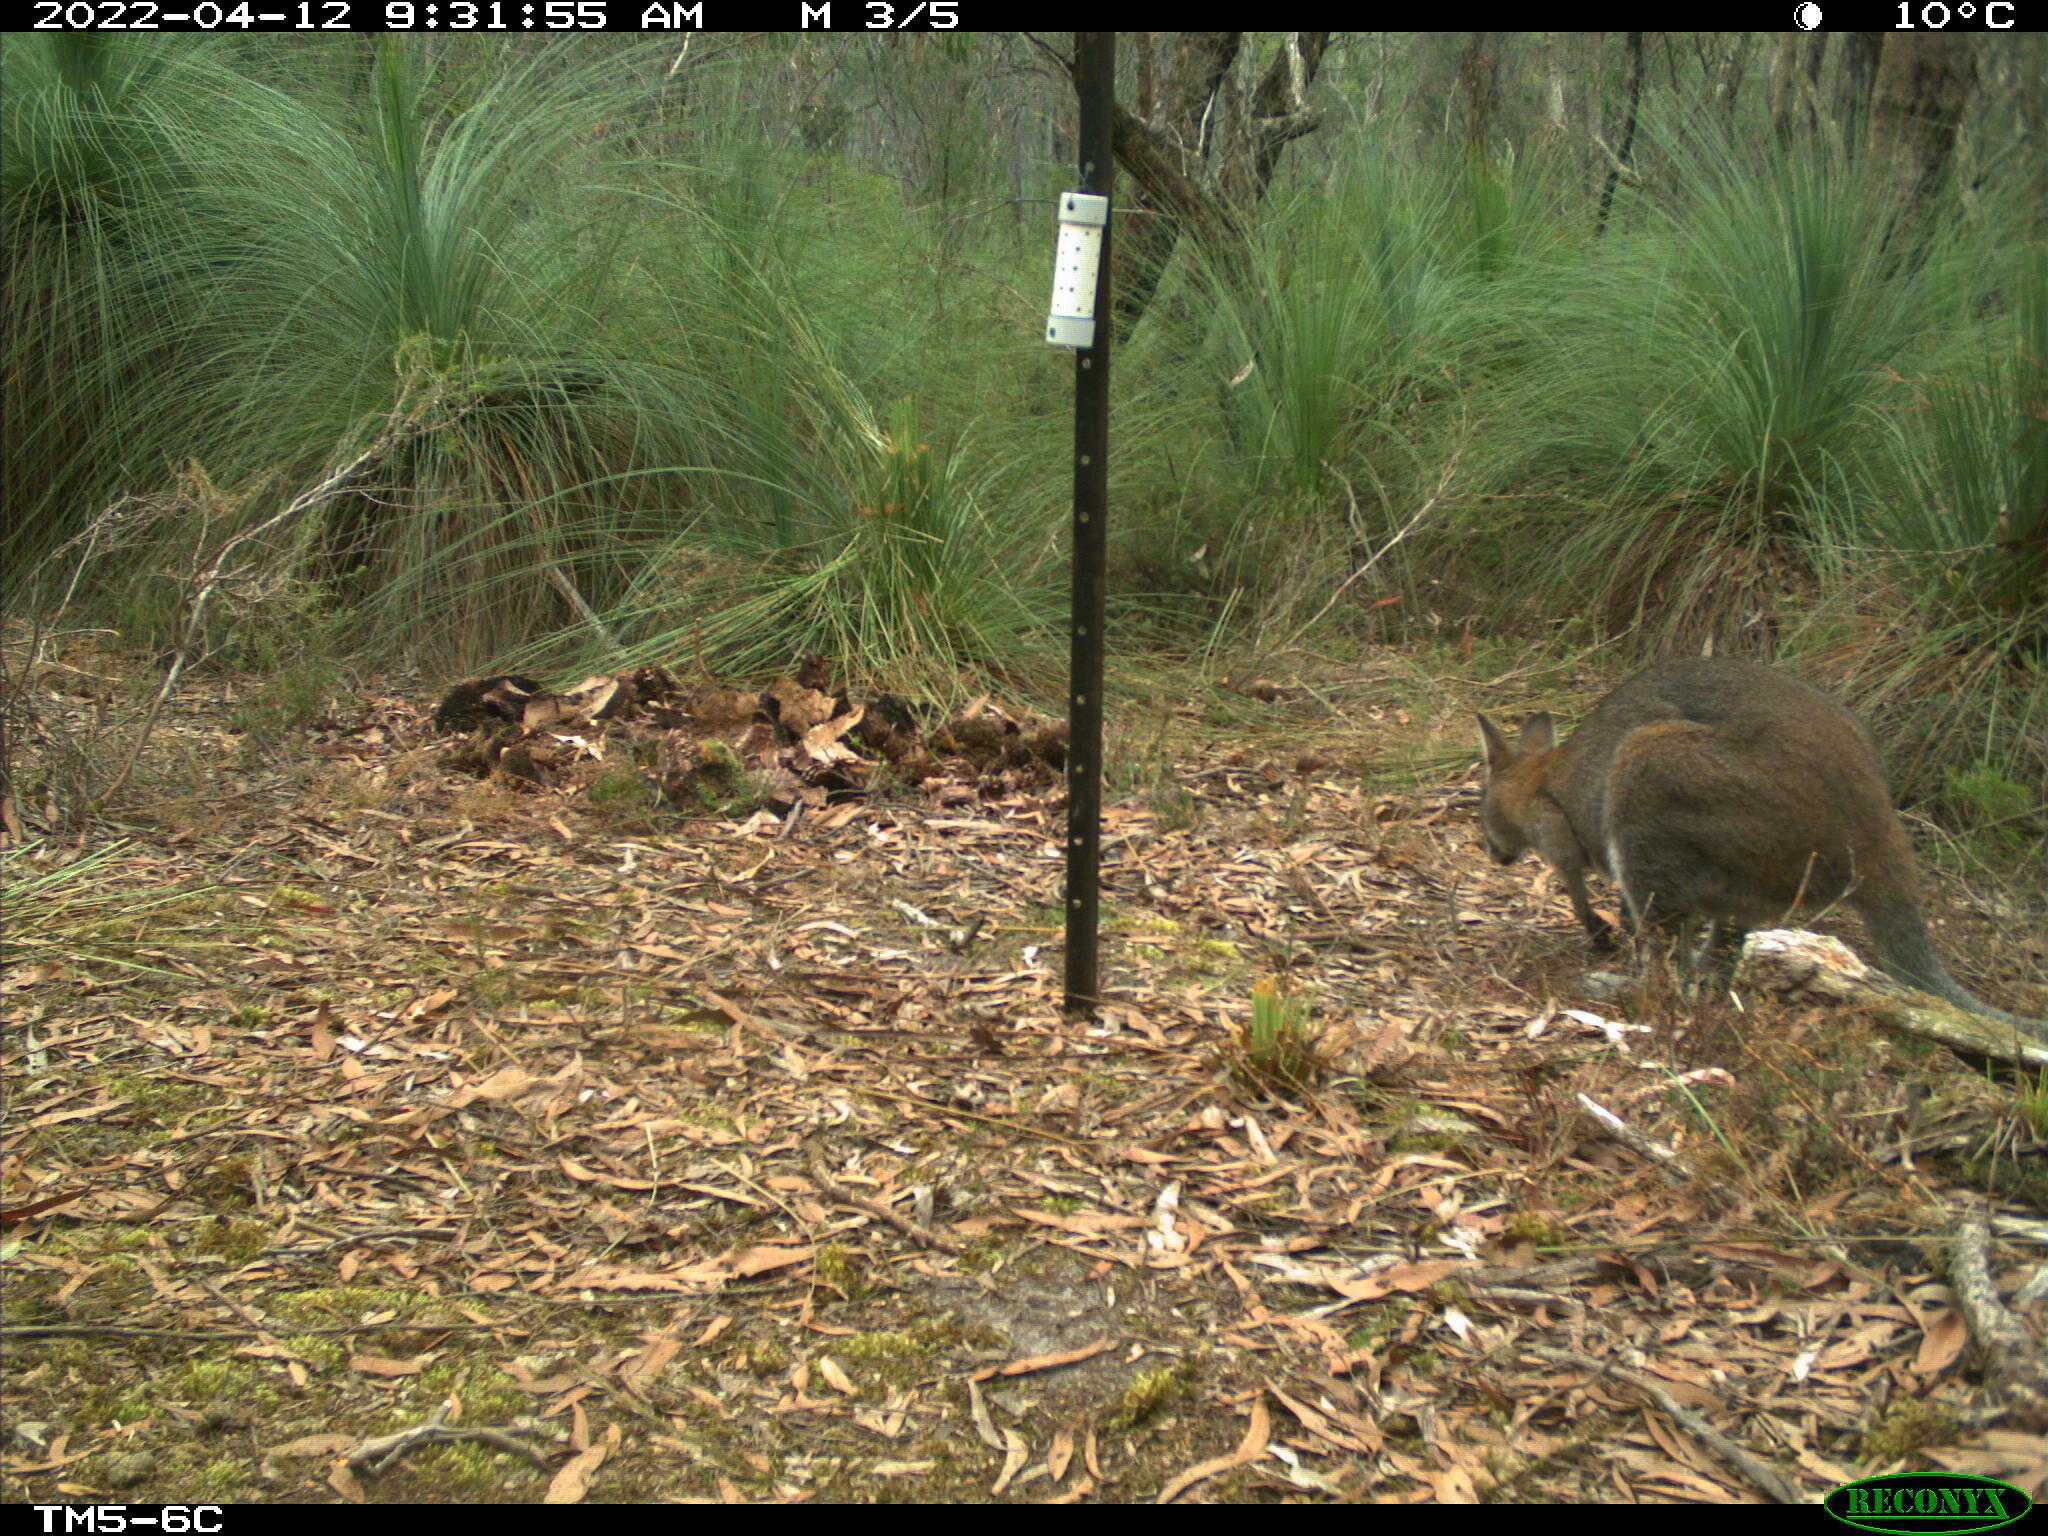Red-necked wallaby: (1476, 642, 2048, 1065)
